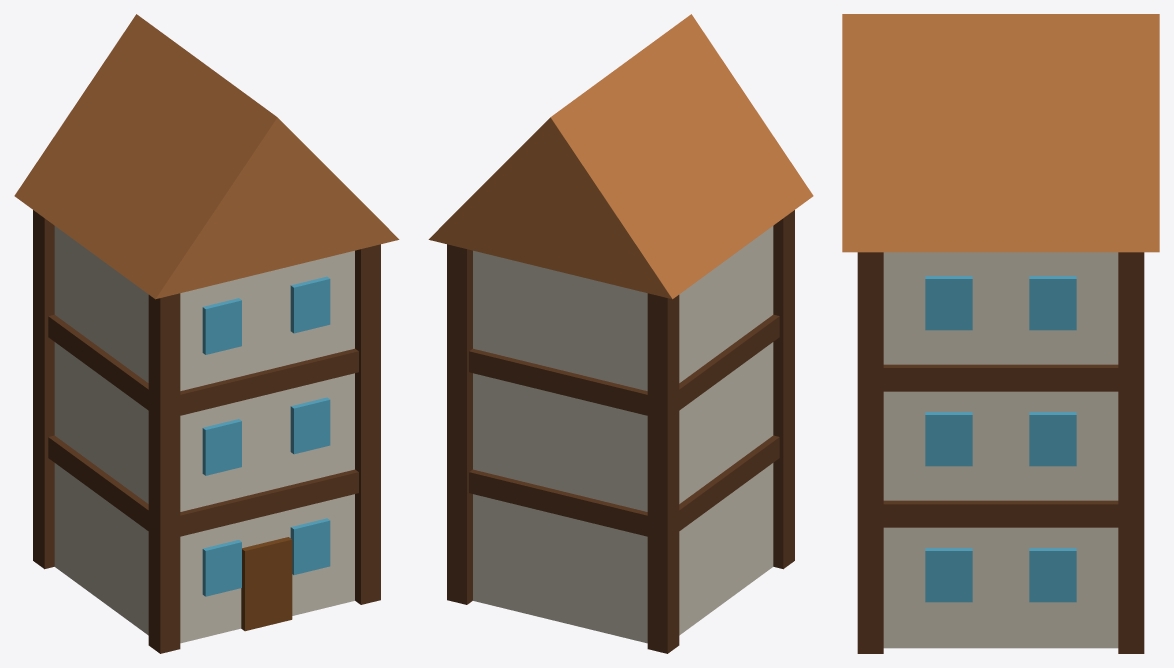
File: city_house_b.glb
3 views of the same model, side by side, from view 1: azimuth 30°, elevation 25°; view 2: azimuth 150°, elevation 25°; view 3: azimuth 270°, elevation 25° (orthographic). The views are drawn at different scales.
Parts seen in each view (by area): view 1: beams; view 2: beams; view 3: beams.
Boxes of the visible parts, box(x1,y1,x2,y2) form: beams: box(14, 14, 399, 653); beams: box(428, 14, 813, 653); beams: box(842, 14, 1159, 653).
Bounding box in the file's own units: 1.34 × 2.7 × 1.34.
